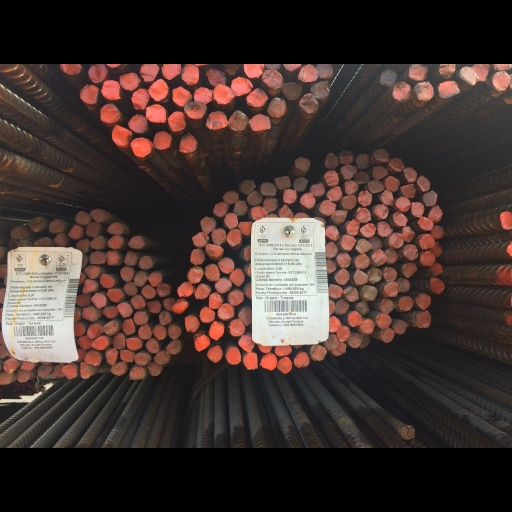dipstick: (213, 85, 235, 106), (263, 69, 283, 90), (130, 137, 151, 157), (149, 79, 168, 100), (438, 81, 460, 99), (112, 125, 130, 147), (232, 77, 252, 96), (146, 104, 166, 123), (100, 104, 120, 123), (207, 111, 228, 129), (185, 101, 206, 119), (168, 111, 186, 132), (415, 81, 434, 100), (282, 81, 301, 100), (153, 131, 172, 150), (88, 64, 107, 83), (229, 110, 247, 130), (120, 72, 140, 90), (247, 88, 268, 105), (131, 88, 148, 109), (392, 82, 411, 100), (129, 115, 147, 134), (80, 85, 98, 104), (102, 80, 119, 100), (459, 66, 477, 84), (299, 64, 317, 82), (178, 134, 196, 152), (492, 71, 509, 90), (268, 97, 285, 116), (250, 114, 270, 130), (182, 64, 198, 84), (300, 95, 318, 112), (172, 87, 189, 105), (409, 64, 426, 81), (312, 81, 329, 98), (208, 68, 225, 85), (141, 64, 158, 81), (216, 304, 234, 320), (259, 354, 277, 370), (193, 87, 212, 102), (230, 268, 245, 287), (293, 351, 309, 368), (310, 345, 326, 362), (343, 285, 359, 302), (206, 245, 224, 260), (208, 345, 223, 363), (162, 64, 181, 78), (209, 321, 223, 340), (239, 336, 255, 352), (324, 225, 340, 241), (416, 175, 432, 191), (423, 191, 439, 207), (392, 211, 408, 227), (360, 222, 376, 238), (376, 221, 392, 237), (355, 238, 371, 254), (11, 224, 27, 240), (379, 71, 396, 86), (188, 267, 203, 284), (372, 148, 389, 163), (388, 231, 403, 248), (438, 64, 456, 78), (185, 315, 199, 333), (244, 64, 263, 77), (58, 64, 80, 75), (189, 249, 204, 265), (194, 284, 209, 300), (195, 335, 210, 351), (200, 307, 215, 323), (230, 320, 245, 336), (299, 193, 315, 208), (309, 182, 325, 197), (323, 170, 338, 186), (357, 191, 373, 206), (410, 201, 425, 217), (340, 234, 355, 250), (428, 206, 443, 222), (371, 250, 386, 266), (403, 244, 418, 260), (392, 319, 408, 334), (29, 216, 45, 231), (122, 318, 136, 335), (226, 348, 240, 365), (278, 357, 292, 374), (417, 310, 431, 327), (368, 266, 382, 283), (86, 324, 103, 338), (243, 352, 256, 370), (274, 176, 292, 189), (500, 211, 512, 230), (225, 230, 240, 245), (219, 258, 234, 273), (228, 290, 243, 305), (341, 165, 356, 180), (396, 196, 411, 211), (356, 208, 371, 223), (355, 254, 370, 269), (416, 294, 431, 309), (398, 296, 413, 311), (402, 262, 417, 277), (99, 273, 114, 288), (92, 293, 107, 308), (294, 157, 310, 171), (324, 153, 338, 169), (215, 279, 231, 293), (107, 288, 123, 302), (140, 284, 156, 298), (129, 366, 145, 380), (324, 334, 338, 350), (324, 242, 338, 258), (262, 197, 278, 211), (341, 195, 357, 209), (430, 278, 444, 294), (380, 298, 394, 314), (90, 208, 106, 222), (48, 219, 64, 233), (103, 321, 119, 335), (84, 351, 100, 365), (200, 216, 213, 233), (205, 264, 218, 281), (125, 337, 142, 350), (239, 308, 252, 325), (250, 207, 267, 220), (89, 236, 106, 249), (91, 337, 108, 350), (240, 179, 255, 193), (223, 190, 238, 204), (247, 191, 262, 205), (212, 230, 226, 245), (178, 282, 192, 297), (208, 293, 222, 308), (173, 299, 188, 313), (123, 251, 137, 266), (133, 271, 148, 285), (130, 295, 145, 309), (118, 303, 132, 318), (134, 311, 149, 325), (135, 352, 150, 366), (328, 284, 342, 299), (334, 269, 348, 284), (320, 200, 334, 215), (344, 180, 358, 195), (372, 165, 387, 179), (385, 176, 399, 191), (380, 190, 394, 205), (402, 183, 416, 198), (417, 216, 432, 230), (419, 235, 434, 249), (337, 253, 351, 268), (353, 270, 367, 285), (363, 286, 378, 300), (376, 314, 391, 328), (384, 282, 398, 297), (82, 279, 97, 293), (69, 225, 84, 239), (53, 233, 68, 247), (80, 363, 94, 378), (317, 64, 333, 77), (120, 266, 133, 282), (331, 210, 347, 223), (356, 153, 369, 169), (373, 205, 389, 218), (346, 219, 359, 235), (89, 251, 105, 264), (81, 308, 97, 321), (102, 306, 118, 319), (404, 166, 416, 183), (338, 150, 352, 164), (294, 177, 308, 191), (389, 157, 403, 171), (420, 251, 434, 265), (383, 267, 397, 281), (380, 328, 394, 342), (76, 239, 90, 253), (77, 336, 91, 350), (63, 364, 77, 378), (234, 200, 247, 215), (193, 233, 208, 246), (111, 235, 124, 250), (153, 325, 166, 340), (168, 325, 181, 340), (146, 338, 159, 353), (334, 300, 349, 313), (326, 187, 341, 200), (402, 227, 415, 242), (348, 311, 361, 326), (75, 211, 90, 224), (368, 180, 384, 192), (398, 277, 410, 293), (33, 237, 52, 247), (128, 237, 145, 248), (214, 203, 228, 216), (148, 272, 161, 286), (138, 255, 152, 268), (146, 300, 160, 313), (167, 340, 180, 354), (155, 351, 169, 364), (113, 362, 126, 376), (261, 182, 275, 195), (283, 189, 296, 203), (355, 171, 369, 184), (361, 320, 374, 334), (85, 223, 99, 236), (85, 265, 99, 278), (278, 205, 293, 217), (386, 249, 398, 264), (75, 294, 90, 306), (37, 365, 52, 377), (275, 345, 291, 356), (338, 326, 349, 342), (157, 284, 170, 297), (112, 222, 125, 235), (432, 225, 445, 238), (430, 263, 443, 276), (356, 301, 369, 314), (73, 323, 86, 336), (239, 221, 251, 235), (124, 283, 138, 295), (159, 311, 171, 325), (138, 326, 152, 338), (120, 350, 134, 362), (16, 371, 30, 383), (328, 317, 339, 332), (115, 333, 125, 349), (148, 364, 160, 377), (370, 237, 382, 250), (3, 360, 16, 372), (349, 334, 360, 348), (476, 65, 485, 81), (334, 344, 346, 356), (325, 260, 336, 273), (52, 365, 63, 378), (0, 372, 11, 385), (20, 360, 34, 370), (163, 297, 172, 310), (433, 243, 441, 257), (361, 336, 370, 348), (17, 240, 31, 247), (258, 346, 271, 353), (329, 299, 334, 315)
